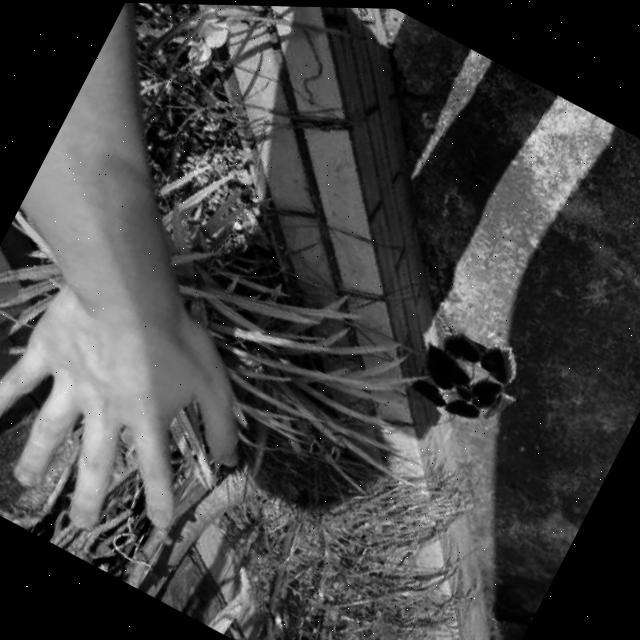no-gloves: (0, 192, 318, 585)
